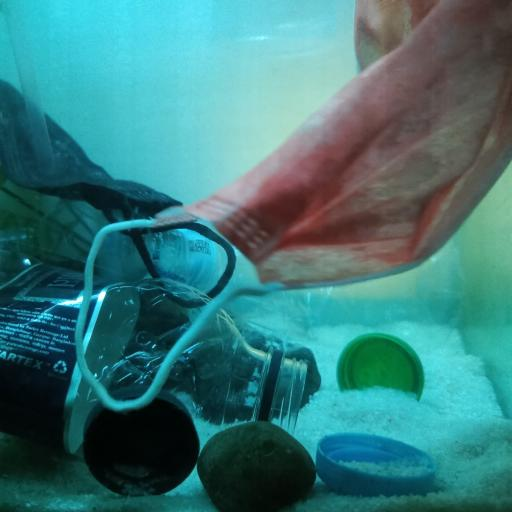bottle_cap: (78, 383, 200, 496), (316, 432, 434, 494), (338, 332, 424, 401)
mask: (80, 0, 512, 407), (0, 63, 239, 312)
plastic_bottle: (0, 241, 308, 452)
plastic_straw: (2, 1, 62, 171)
